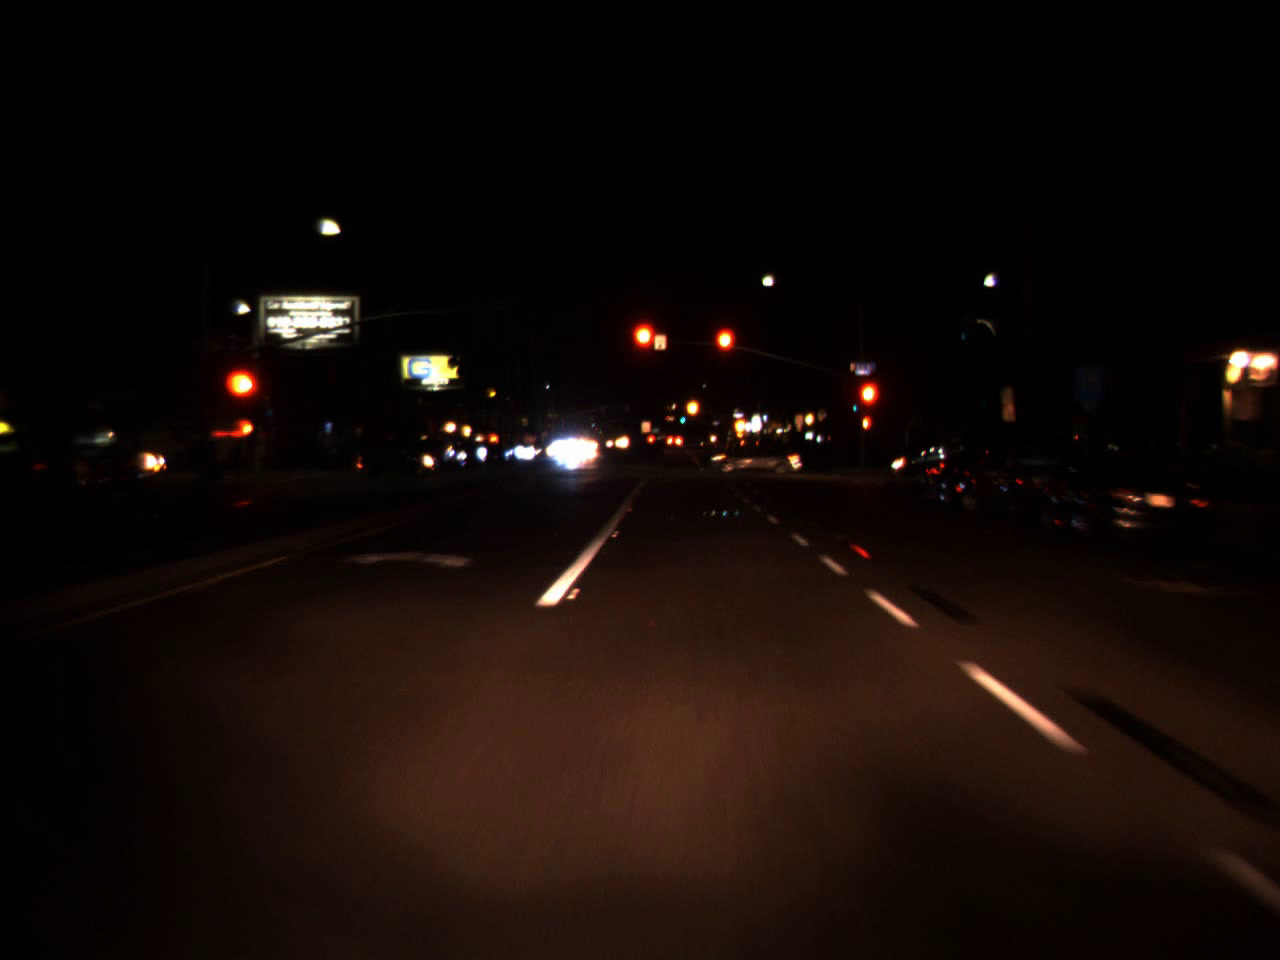go: (679, 412, 686, 424)
stop: (219, 366, 262, 430), (628, 318, 661, 380), (712, 325, 737, 379), (855, 379, 880, 433)
warning: (684, 389, 700, 424), (733, 408, 749, 438)
